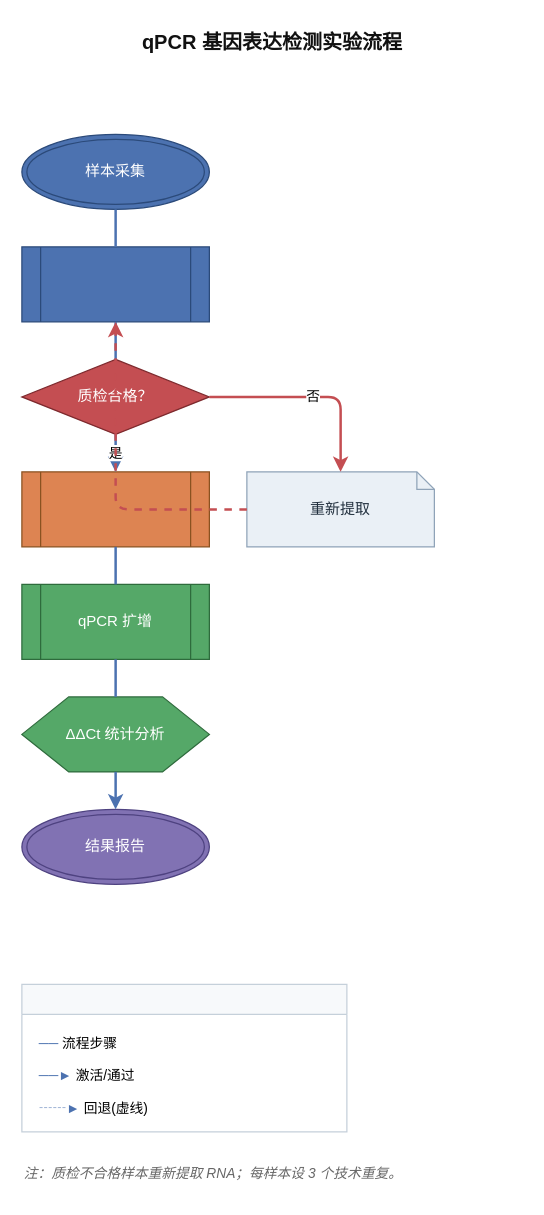
This 544x1215 diagram has some shape labels left out. The shapes that lost their labels are listed below. From the top down, each one's box as (x1, y1, x2, y2) in pixels, then its label:
(21, 246, 209, 322): RNA 提取
(21, 471, 209, 547): 逆转录 cDNA
(21, 983, 347, 1132): 图例 Legend
